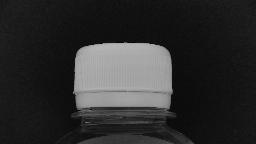Good Cap: (66, 39, 180, 122)
